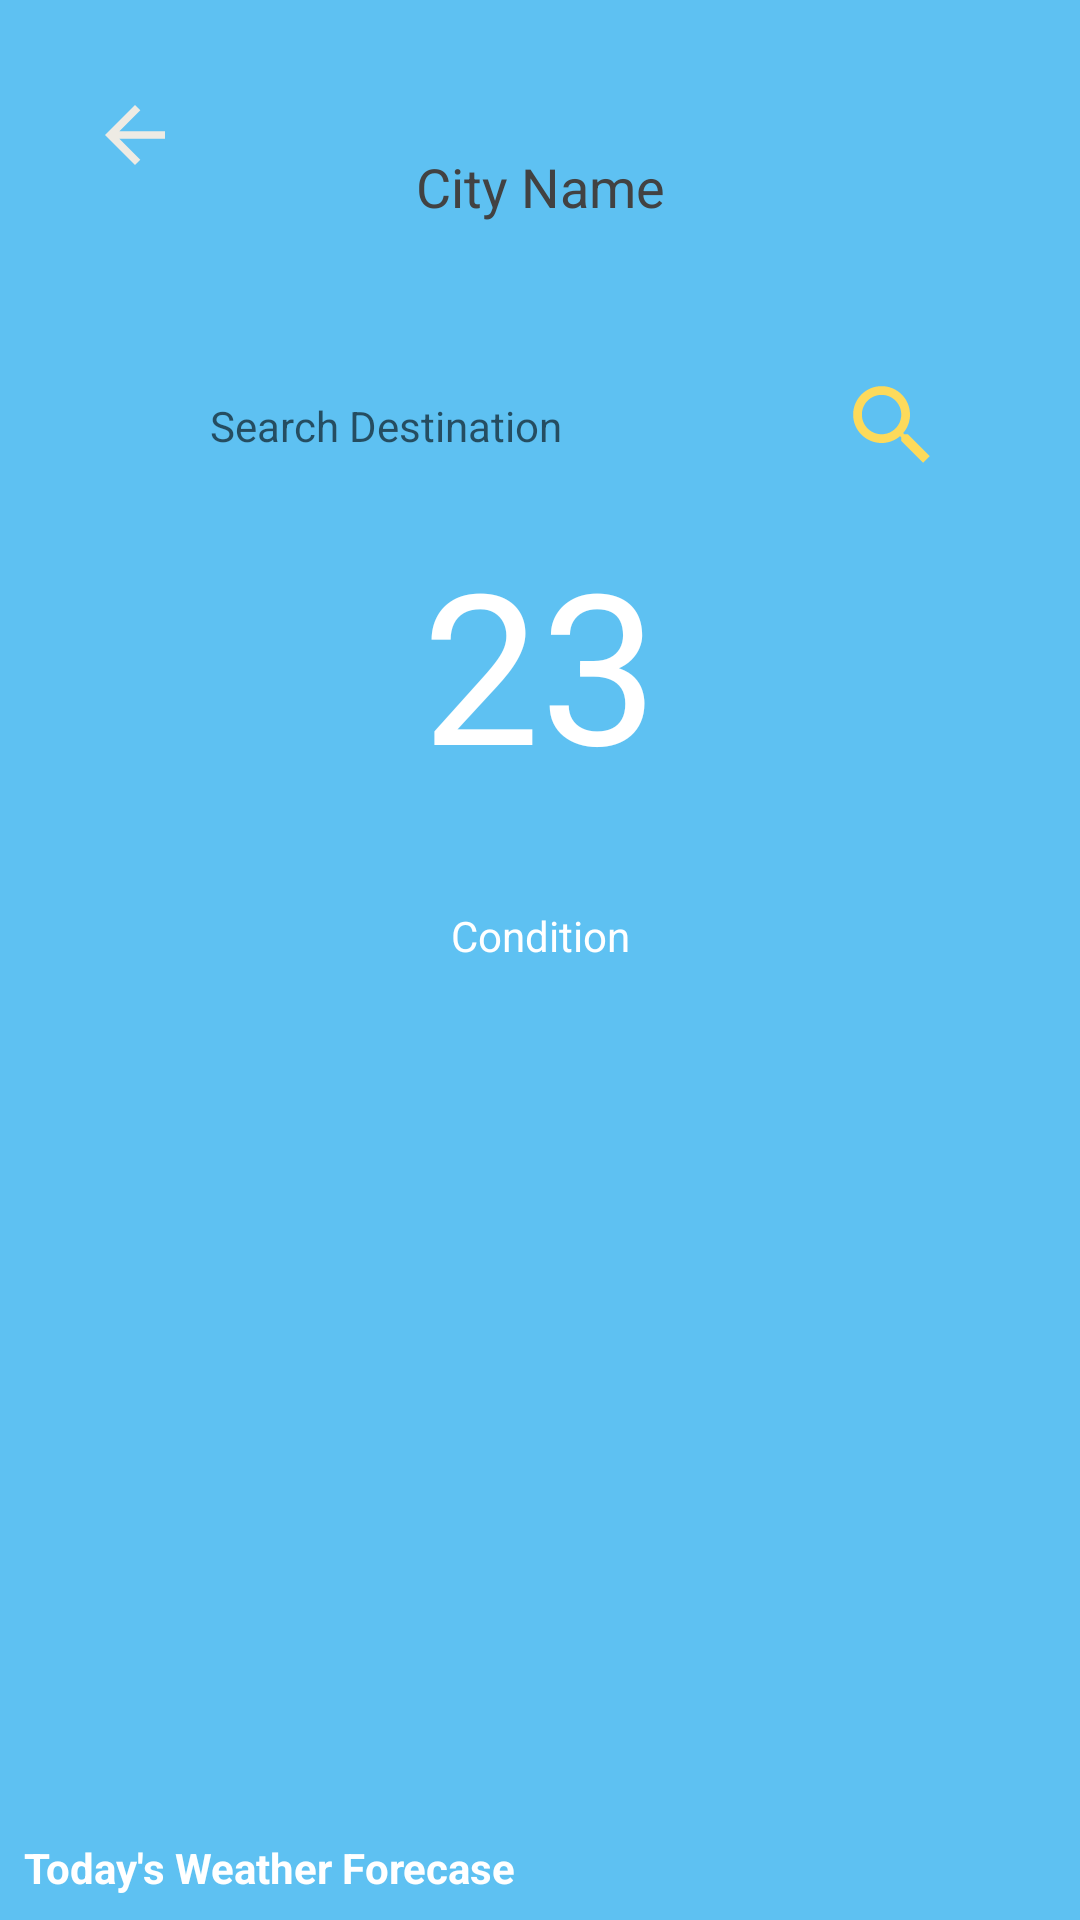

Icons on this 1080px x 1920px Android screen, each with the point to tap as (x,y):
arrow back: (135,135)
